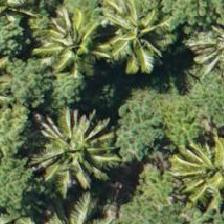coconut_tree: (20, 102, 110, 192), (28, 0, 118, 89), (89, 0, 179, 78), (172, 130, 223, 220)
